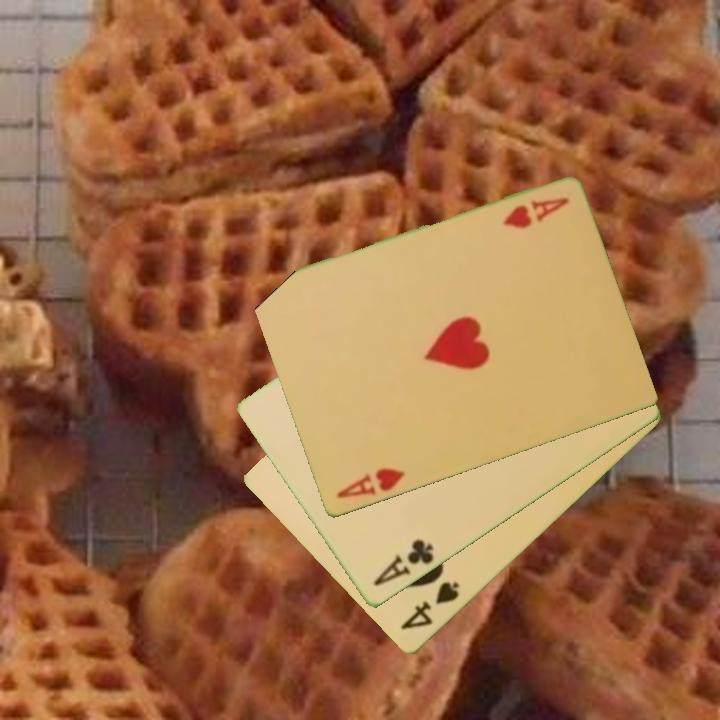4s: (396, 578, 463, 634)
Ac: (369, 536, 437, 590)
Ah: (332, 464, 407, 502), (499, 194, 571, 232)
